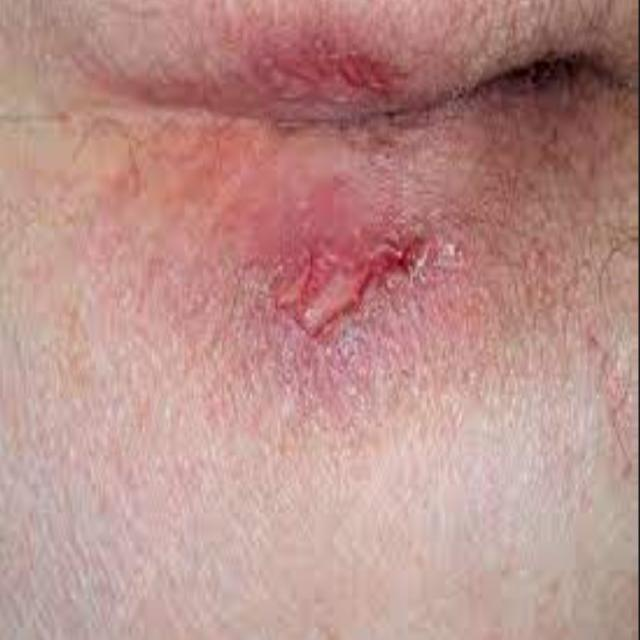stage-2: (275, 226, 439, 337)
